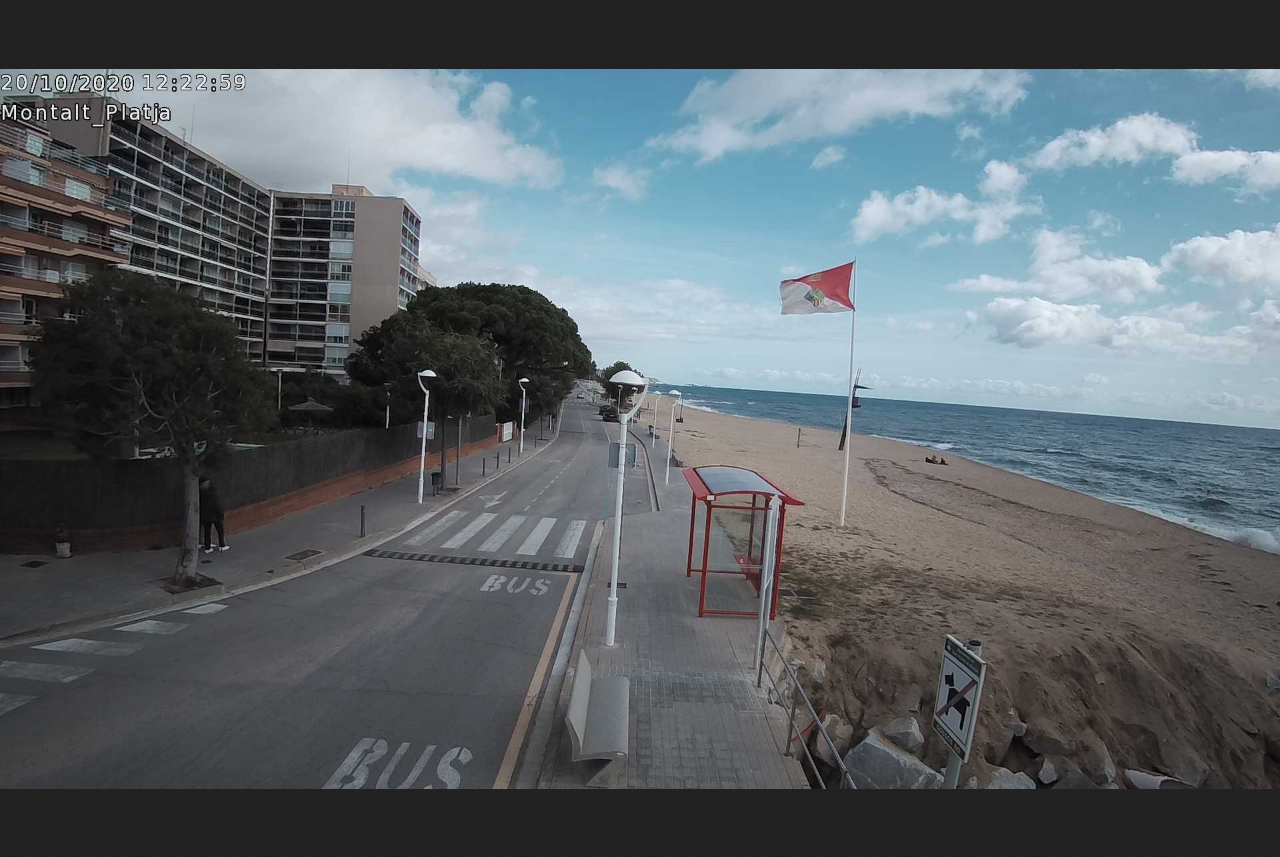yes: (775, 263, 854, 317)
